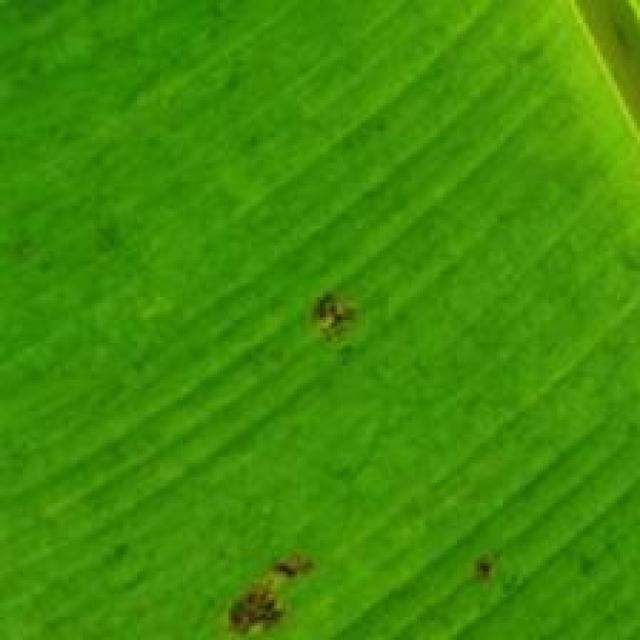Downey_mildrew: (206, 511, 548, 640), (253, 269, 409, 370)
